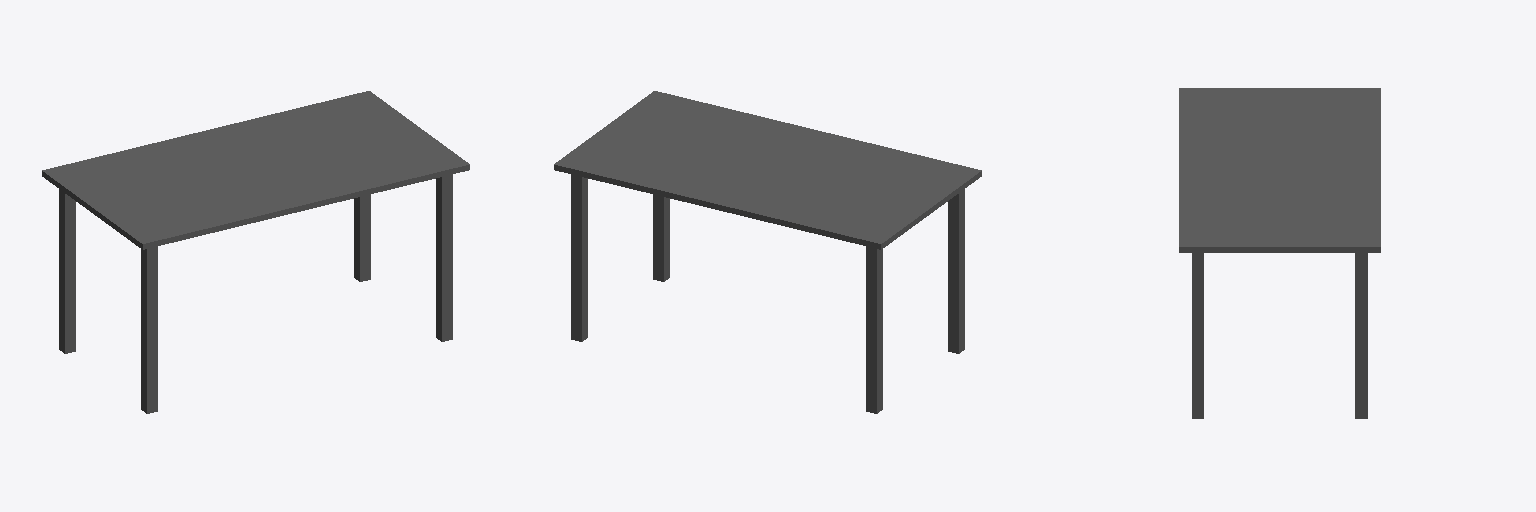
Rendered from table.obj.
3 renders of one model, left to right at view 1: azimuth 30°, elevation 25°; view 2: azimuth 150°, elevation 25°; view 3: azimuth 270°, elevation 25°, orthographic.
Parts seen in each view (by area): view 1: object_1; view 2: object_1; view 3: object_1.
Boxes of the visible parts, box(x1,y1,x2,y2) form: object_1: box(42, 91, 469, 413); object_1: box(554, 91, 981, 413); object_1: box(1179, 88, 1380, 418).
Size of the model in its own units: 60 by 31 by 32.